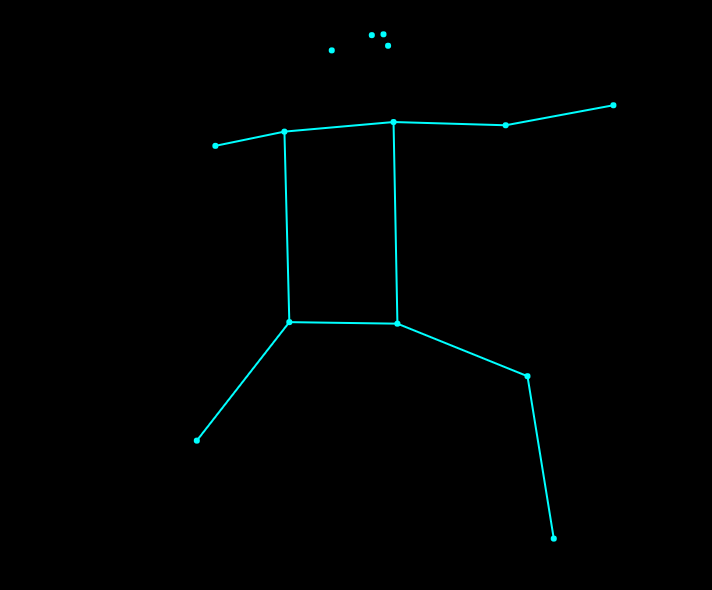warrior_2: (188, 25, 621, 546)
